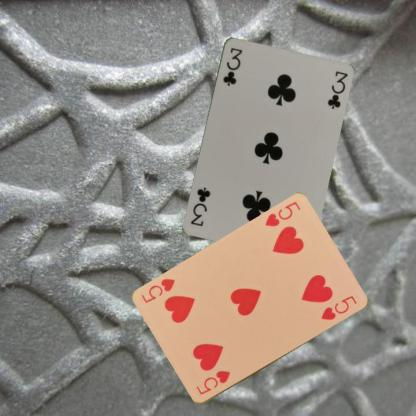3c: (220, 44, 243, 87)
5h: (262, 199, 302, 229), (193, 368, 232, 396)
